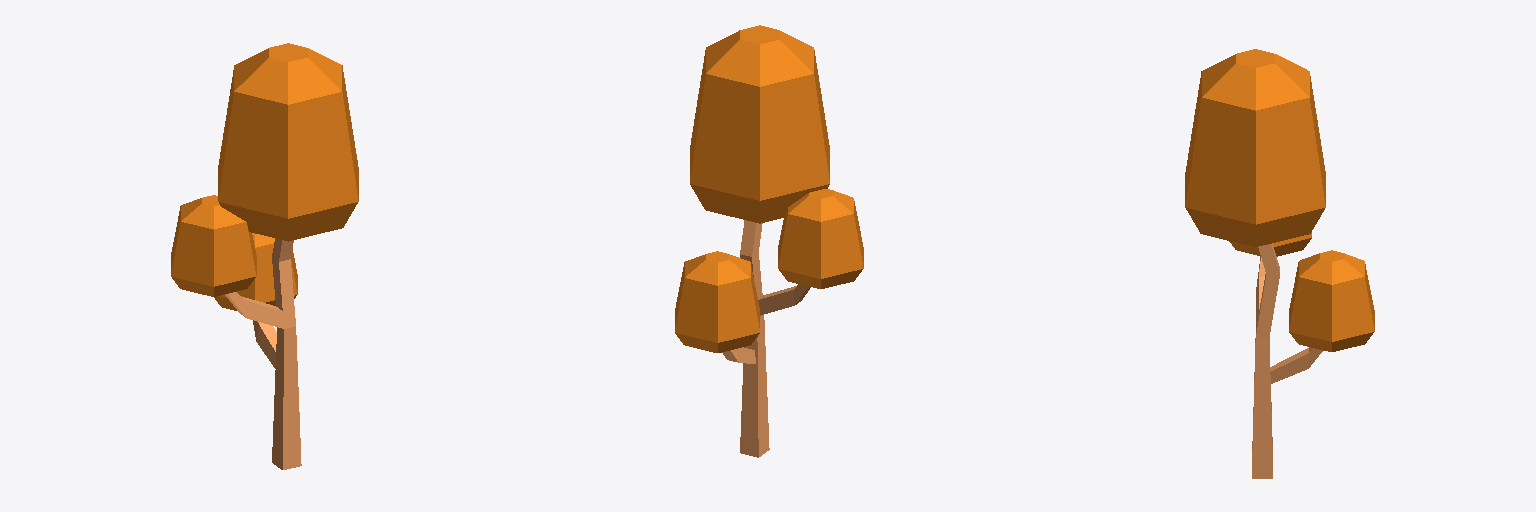
File: tree_thin_fall.obj
The picture shows the model from 3 angles: view 1: azimuth 30°, elevation 25°; view 2: azimuth 150°, elevation 25°; view 3: azimuth 270°, elevation 25°; orthographic projection.
Visible parts, largest first — view 1: tree_thin_fall; view 2: tree_thin_fall; view 3: tree_thin_fall.
Part boxes in pixels (x1,y1,x2,y2): tree_thin_fall: (171, 43, 358, 469); tree_thin_fall: (675, 25, 863, 457); tree_thin_fall: (1185, 49, 1374, 478).
Size of the model in its own units: 6.8 by 14.9 by 6.17.